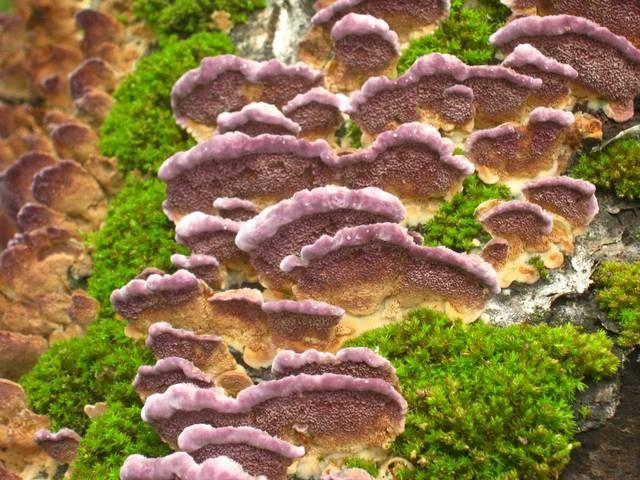poisonous_mushroom: (107, 0, 639, 479)
